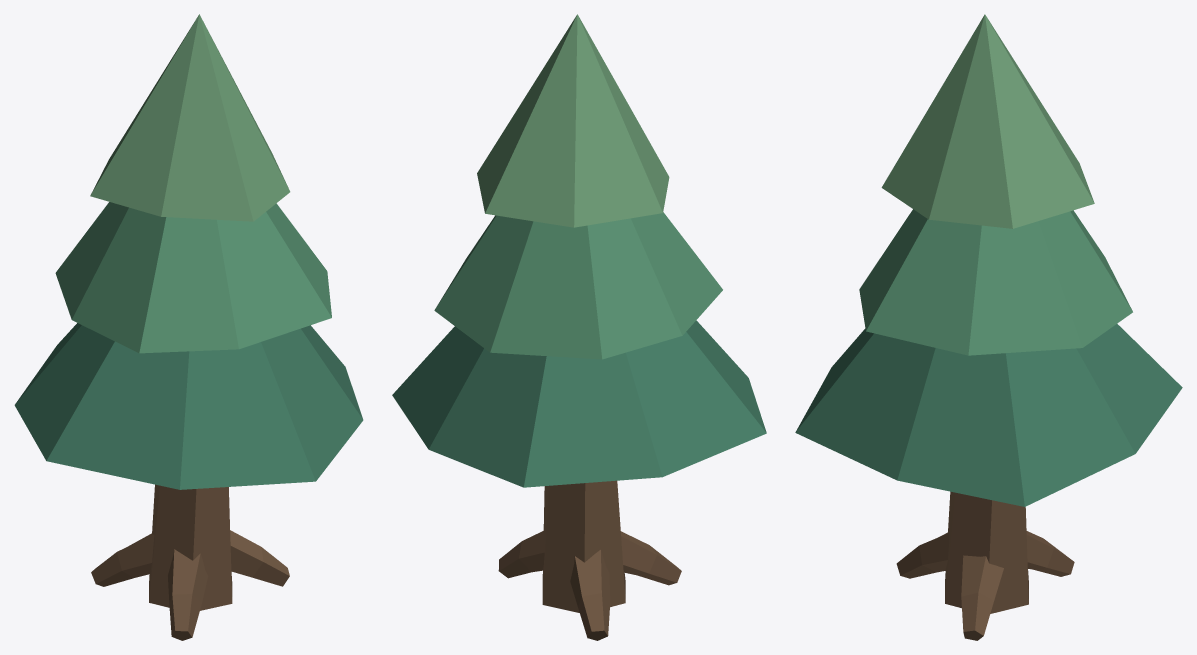
The model's file is Cozy_Tree_Medium_02_ForestPine.fbx.
3 views of the same model, side by side, from view 1: azimuth 30°, elevation 25°; view 2: azimuth 150°, elevation 25°; view 3: azimuth 270°, elevation 25° (orthographic).
Parts seen in each view (by area): view 1: Cozy_Tree_Medium_02_ForestPine; view 2: Cozy_Tree_Medium_02_ForestPine; view 3: Cozy_Tree_Medium_02_ForestPine.
Part boxes in pixels (bbox=[...]): Cozy_Tree_Medium_02_ForestPine: bbox=[14, 14, 363, 640]; Cozy_Tree_Medium_02_ForestPine: bbox=[392, 14, 766, 640]; Cozy_Tree_Medium_02_ForestPine: bbox=[795, 14, 1182, 640].
Bounding box in the file's own units: 2.19 × 3.63 × 2.16.
